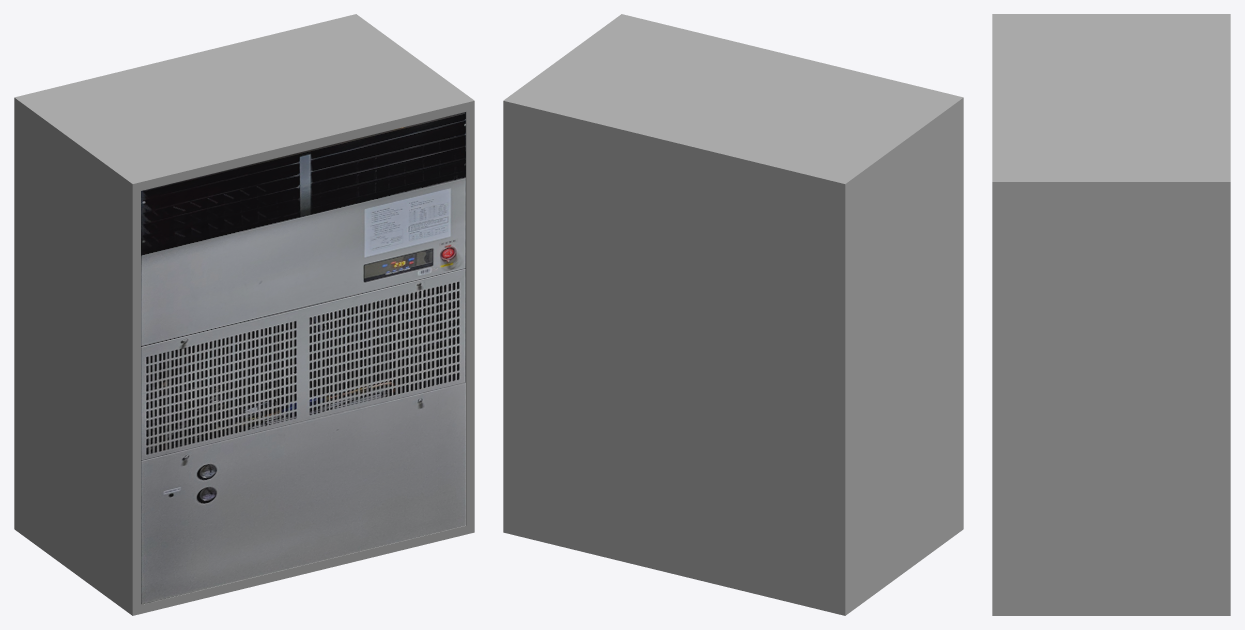
3 renders of one model, left to right at view 1: azimuth 30°, elevation 25°; view 2: azimuth 150°, elevation 25°; view 3: azimuth 270°, elevation 25°, orthographic.
Parts seen in each view (by area): view 1: 냉방기012; view 2: 냉방기012; view 3: 냉방기012.
Part boxes in pixels (x1,y1,x2,y2): 냉방기012: [14, 14, 474, 615]; 냉방기012: [503, 14, 963, 615]; 냉방기012: [992, 14, 1230, 615].
Bounding box in the file's own units: 1.6 × 1.93 × 0.96.
Materials: 3 (1 with a texture image).
